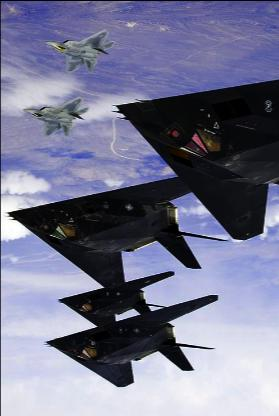E7: (110, 77, 278, 241), (4, 176, 231, 288), (42, 294, 218, 388), (56, 270, 174, 326)
F18: (44, 28, 114, 74), (22, 95, 88, 137)
